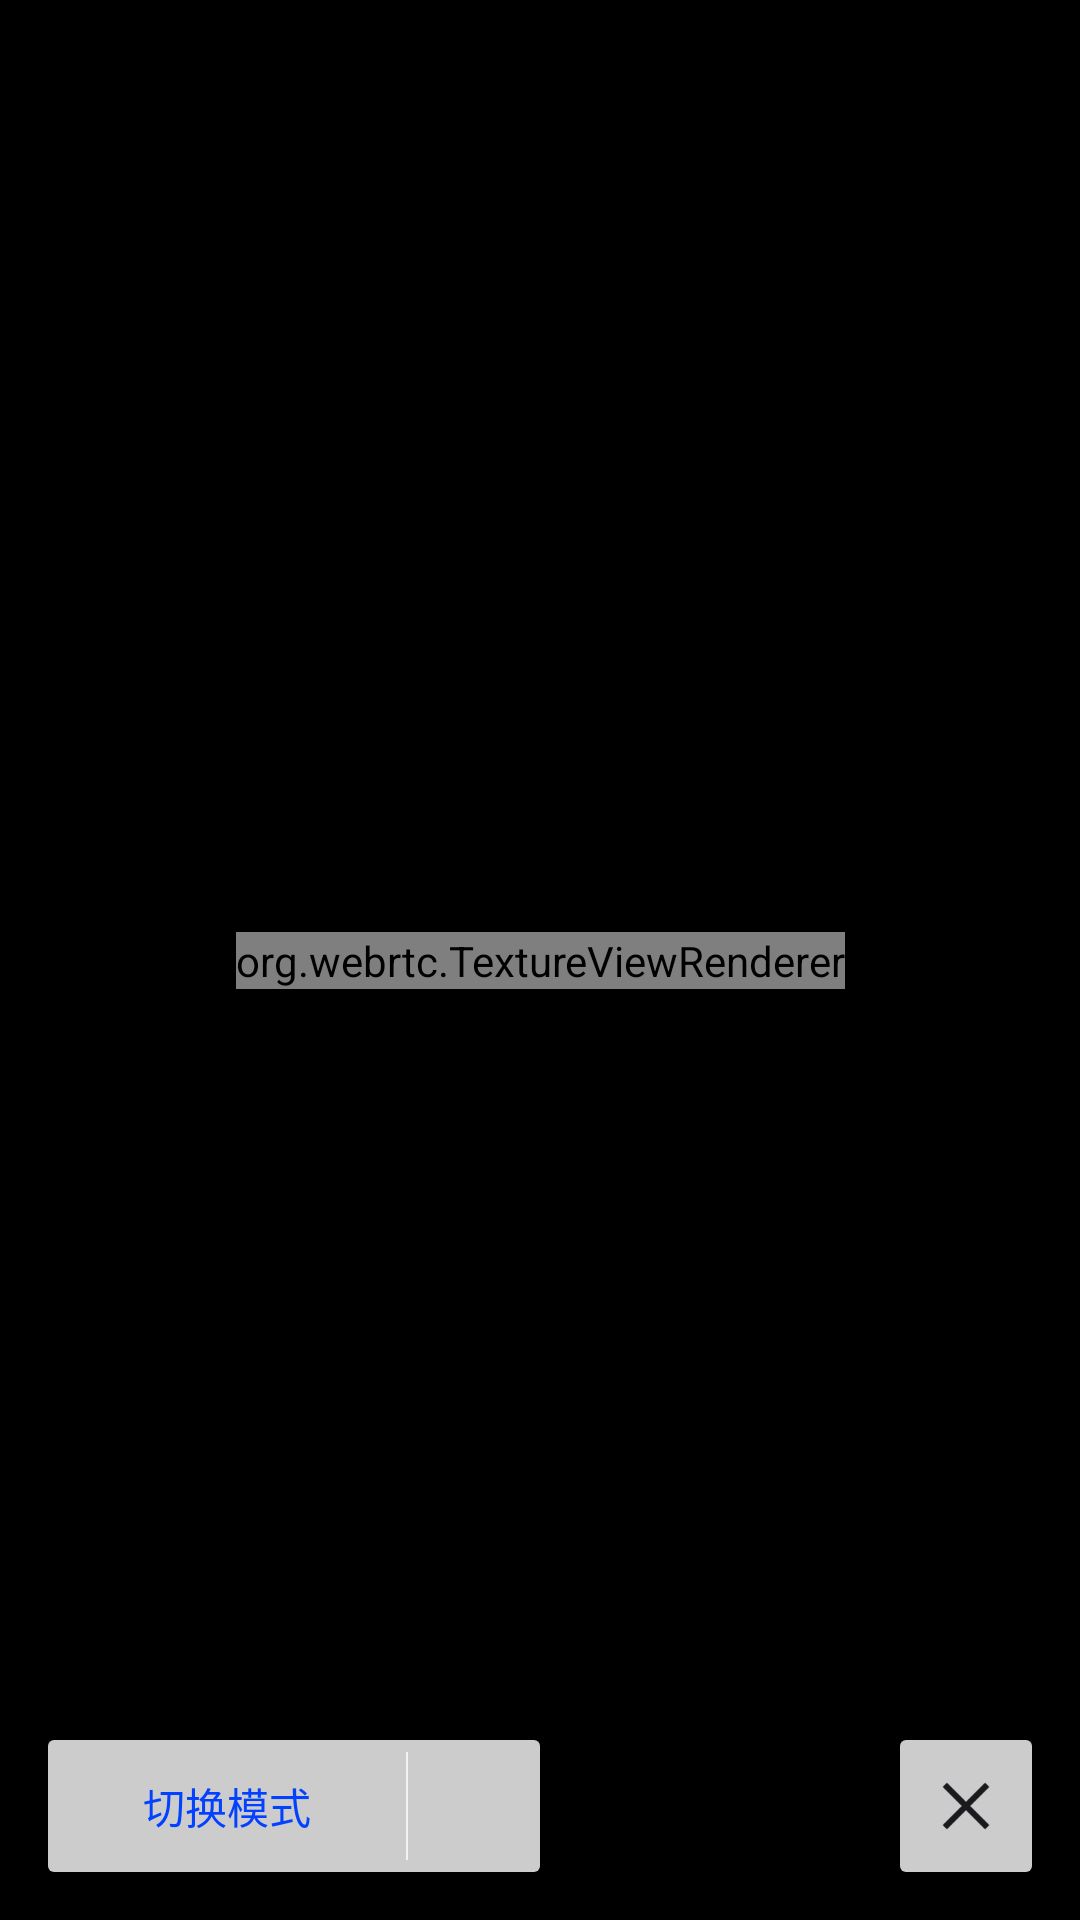

Named icons in this screenshot (1080w x 1920h) and their bounding boxes, [x1=x1, y1=y1, x2=x2, y2=y2]:
exit: [x1=900, y1=1740, x2=1032, y2=1872]
